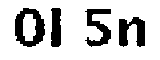0: (8, 6, 45, 50)
5: (80, 5, 114, 52)
l: (49, 6, 73, 51)
n: (116, 14, 150, 49)
